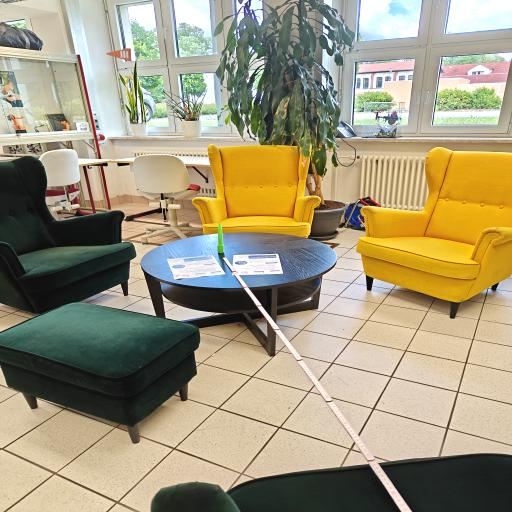Probe-Detection: (217, 223, 224, 253)
